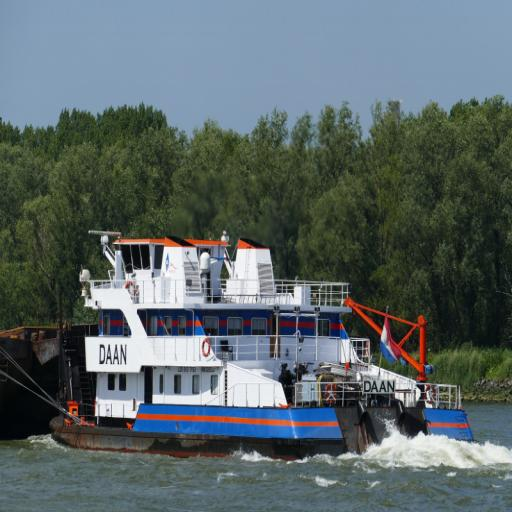tugboat: (47, 228, 479, 468)
